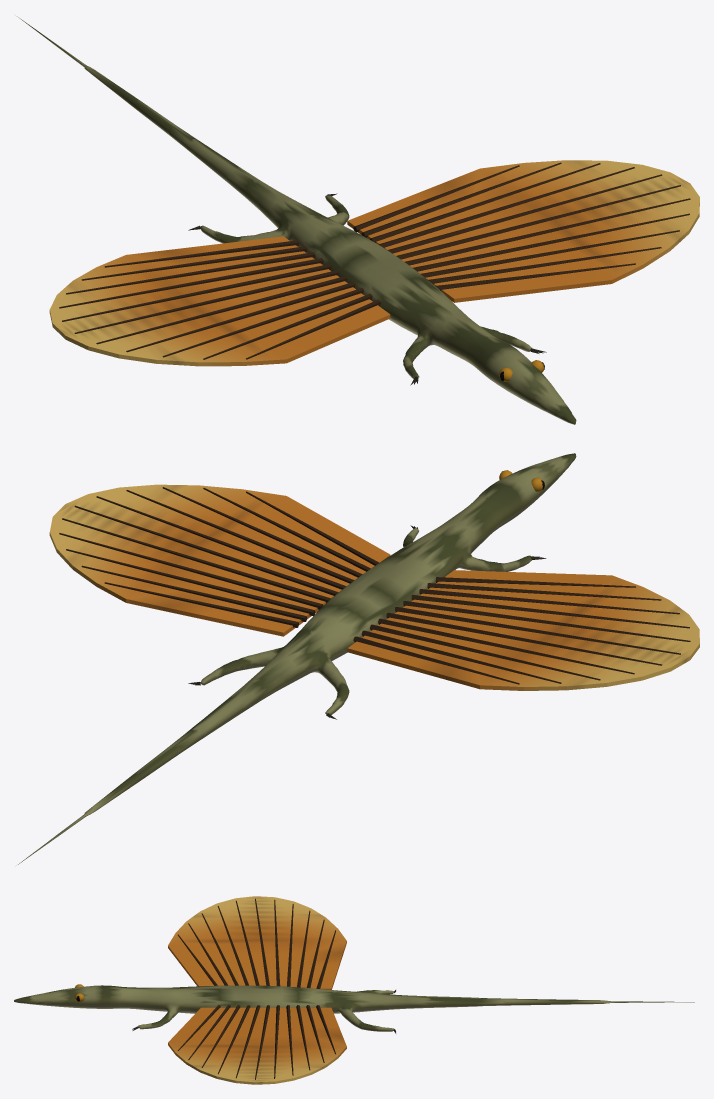
Rendered from Icarosaurus.fbx.
3 renders of one model, top to bottom at view 1: azimuth 30°, elevation 25°; view 2: azimuth 150°, elevation 25°; view 3: azimuth 270°, elevation 25°, orthographic. The views are drawn at different scales.
Visible parts, largest first — view 1: Icarosaurus; view 2: Icarosaurus; view 3: Icarosaurus.
Part boxes in pixels (box(x1,y1,x2,y2)): Icarosaurus: box(17, 16, 699, 424); Icarosaurus: box(18, 453, 699, 864); Icarosaurus: box(14, 896, 694, 1084).
Bounding box in the file's own units: 0.9795 × 0.0648 × 1.52.
